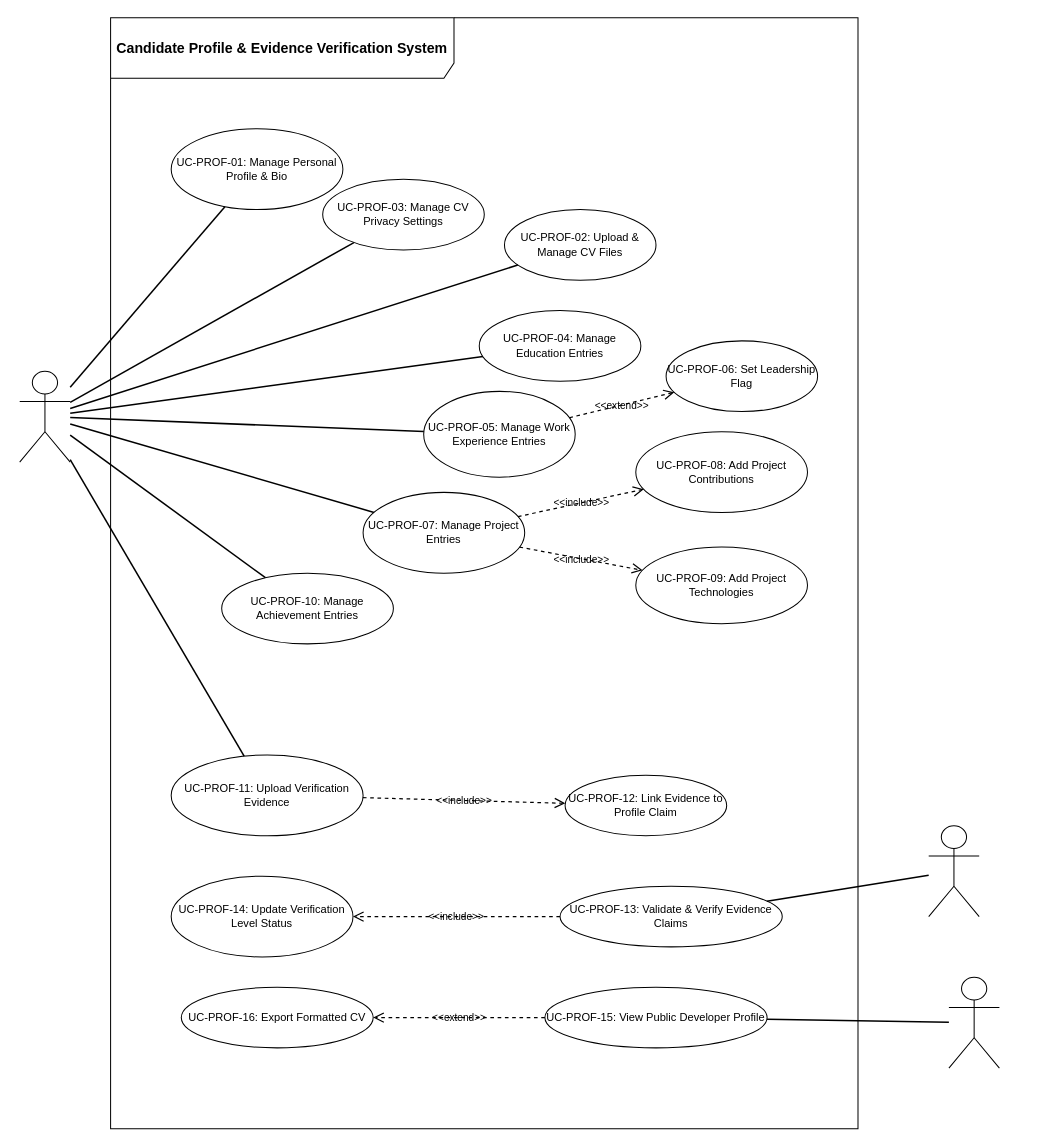
The diagram is 1046 pixels wide and 1146 high, and some of its shapes have lost their labels. The centre of each missing label's shape, as x and y in pixels:
"Candidate" goes at point (44, 416).
"Recruiter / Employer" goes at point (973, 1022).
"Super Admin / System" goes at point (953, 871).
